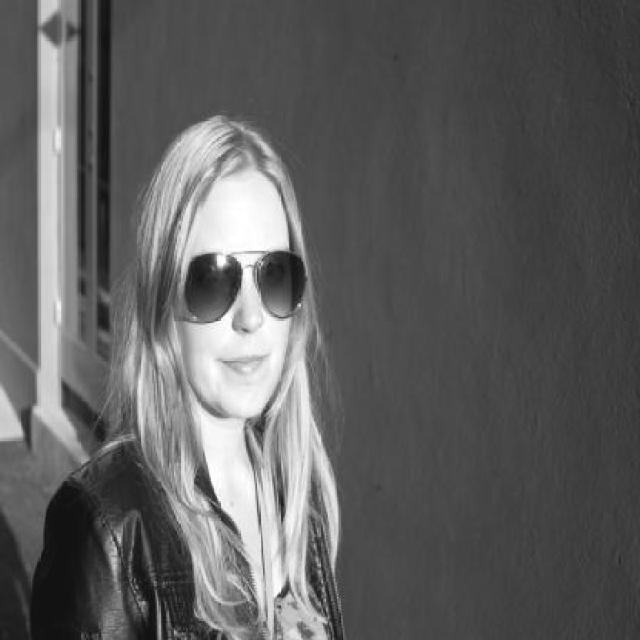face_nomask: (179, 245, 301, 393)
glasses: (164, 237, 304, 329)
head_nohelmet: (146, 121, 305, 221)
